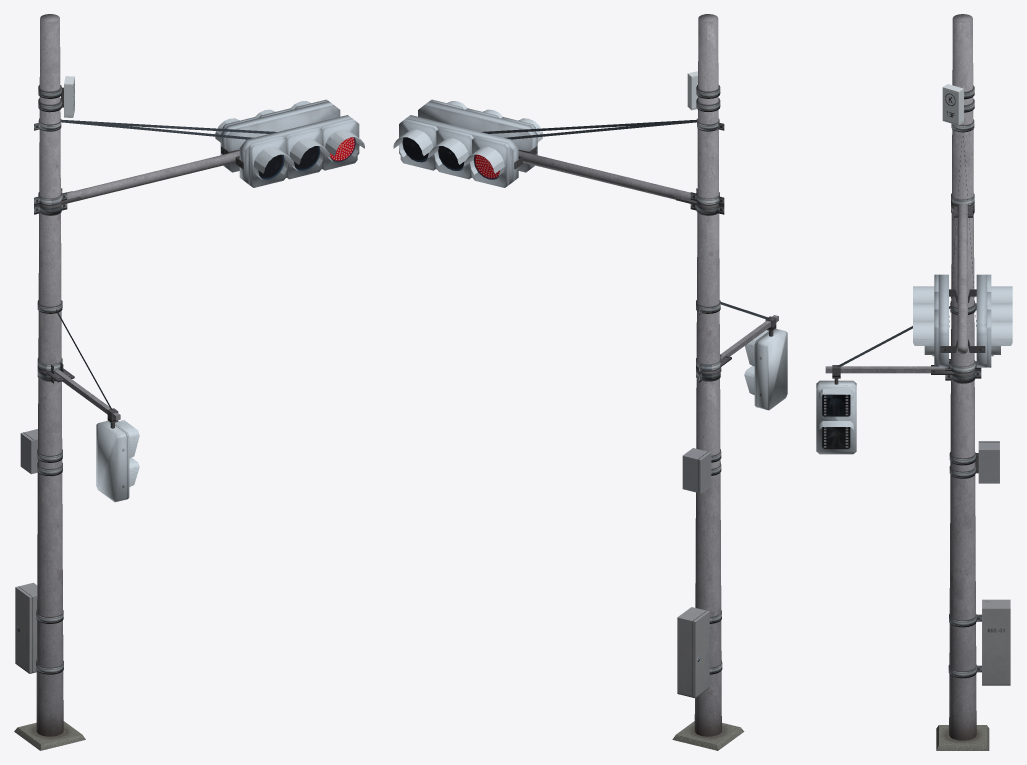
The model's file is Traffic_light_Auto_2_Ped.fbx.
3 renders of one model, left to right at view 1: azimuth 30°, elevation 25°; view 2: azimuth 150°, elevation 25°; view 3: azimuth 270°, elevation 25°, orthographic.
Visible parts, largest first — view 1: 00_pillar, 30_Auto_light, 40_Ped_light, 35_Auto_light_2, 80_box_L, 10_Auto_bar, 85_box_S, 86_box_SS, 20_Auto_latch_bar; view 2: 00_pillar, 35_Auto_light_2, 40_Ped_light, 30_Auto_light, 80_box_L, 10_Auto_bar, 85_box_S, 86_box_SS, 20_Auto_latch_bar; view 3: 00_pillar, 40_Ped_light, 35_Auto_light_2, 80_box_L, 30_Auto_light, 10_Auto_bar, 85_box_S, 86_box_SS, 70_light_Ped_red, 72_light_Ped_green.
Boxes of the visible parts, bbox=[...] form: 00_pillar: bbox=[14, 14, 85, 750]; 30_Auto_light: bbox=[61, 115, 364, 187]; 40_Ped_light: bbox=[37, 300, 139, 502]; 35_Auto_light_2: bbox=[61, 99, 340, 172]; 80_box_L: bbox=[15, 582, 63, 674]; 10_Auto_bar: bbox=[67, 150, 239, 199]; 85_box_S: bbox=[20, 429, 62, 476]; 86_box_SS: bbox=[38, 76, 74, 117]; 20_Auto_latch_bar: bbox=[34, 188, 81, 215]; 00_pillar: bbox=[672, 14, 744, 750]; 35_Auto_light_2: bbox=[393, 115, 696, 187]; 40_Ped_light: bbox=[696, 300, 787, 410]; 30_Auto_light: bbox=[418, 99, 696, 172]; 80_box_L: bbox=[677, 607, 722, 698]; 10_Auto_bar: bbox=[518, 151, 690, 199]; 85_box_S: bbox=[682, 448, 721, 493]; 86_box_SS: bbox=[687, 71, 720, 111]; 20_Auto_latch_bar: bbox=[676, 188, 724, 215]; 00_pillar: bbox=[936, 14, 989, 750]; 40_Ped_light: bbox=[816, 301, 981, 454]; 35_Auto_light_2: bbox=[963, 131, 1012, 367]; 80_box_L: bbox=[948, 599, 1010, 685]; 30_Auto_light: bbox=[913, 131, 962, 367]; 10_Auto_bar: bbox=[957, 203, 967, 353]; 85_box_S: bbox=[949, 441, 999, 483]; 86_box_SS: bbox=[942, 84, 974, 125]; 70_light_Ped_red: bbox=[822, 394, 850, 416]; 72_light_Ped_green: bbox=[822, 427, 850, 448].
Size of the model in its own units: 3.51 by 7.5 by 1.85.
